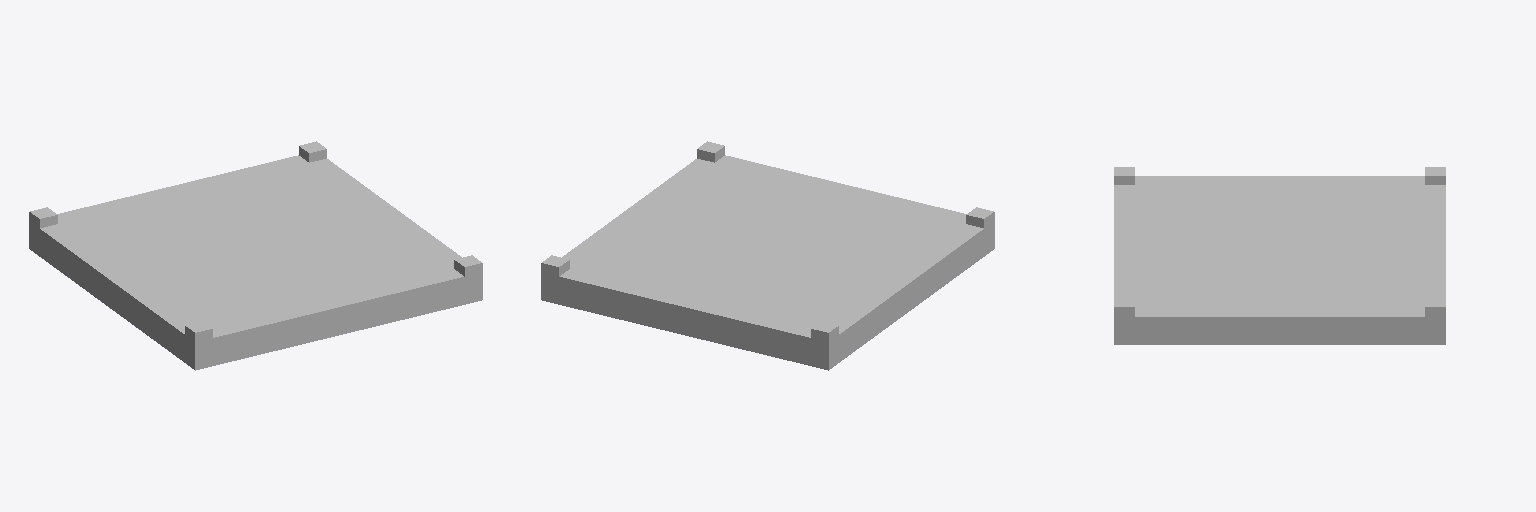
Rendered from road-4way.obj.
3 views of the same model, side by side, from view 1: azimuth 30°, elevation 25°; view 2: azimuth 150°, elevation 25°; view 3: azimuth 270°, elevation 25° (orthographic).
Size of the model in its own units: 32 by 4 by 32.